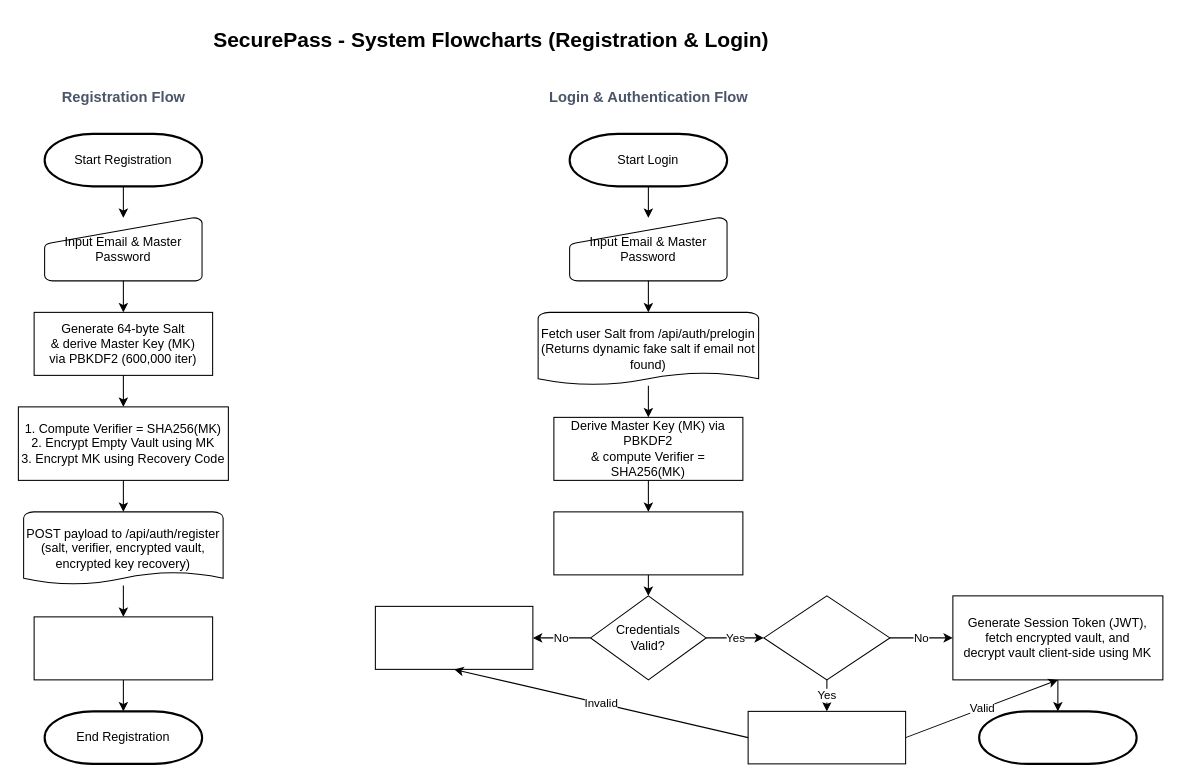
This 1181x782 diagram has some shape labels left out. The centre of each missing label's shape, as x and y in pixels:
"End (Dashboard Loaded)" belongs at (x=1057, y=737).
"Increment failures. If >=10 failures, lock account for 15 mins." belongs at (x=453, y=637).
"MFA Required?" belongs at (x=826, y=637).
"POST verifier to /api/auth/login & check rate limit & lock status" belongs at (x=648, y=543).
"Prompt user for TOTP code & verify on server" belongs at (x=826, y=737).
"Server hashes Verifier with Bcrypt & stores in Database" belongs at (x=123, y=648).
